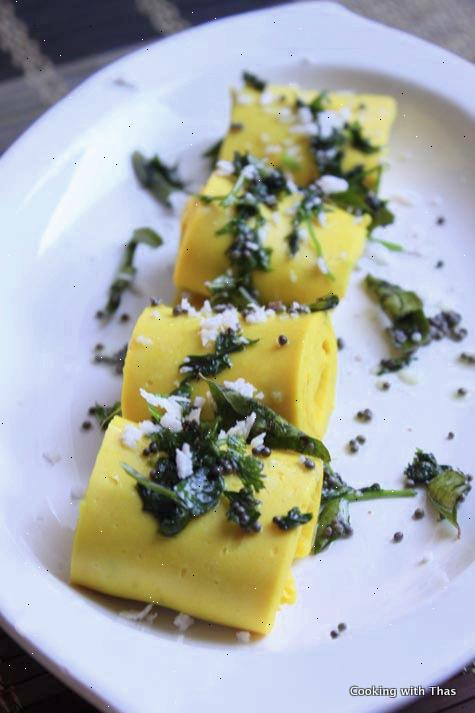khandvi: (98, 70, 422, 662)
